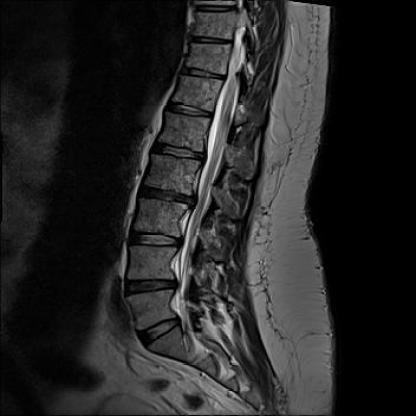Annular Disc Relaxationrotation: (130, 230, 183, 249), (148, 144, 207, 161)
Degenerative Disc Diseaserotation: (122, 275, 177, 299), (140, 184, 195, 206)
Disc Bulgerotation: (122, 275, 178, 299), (134, 321, 188, 344), (139, 185, 194, 206)
